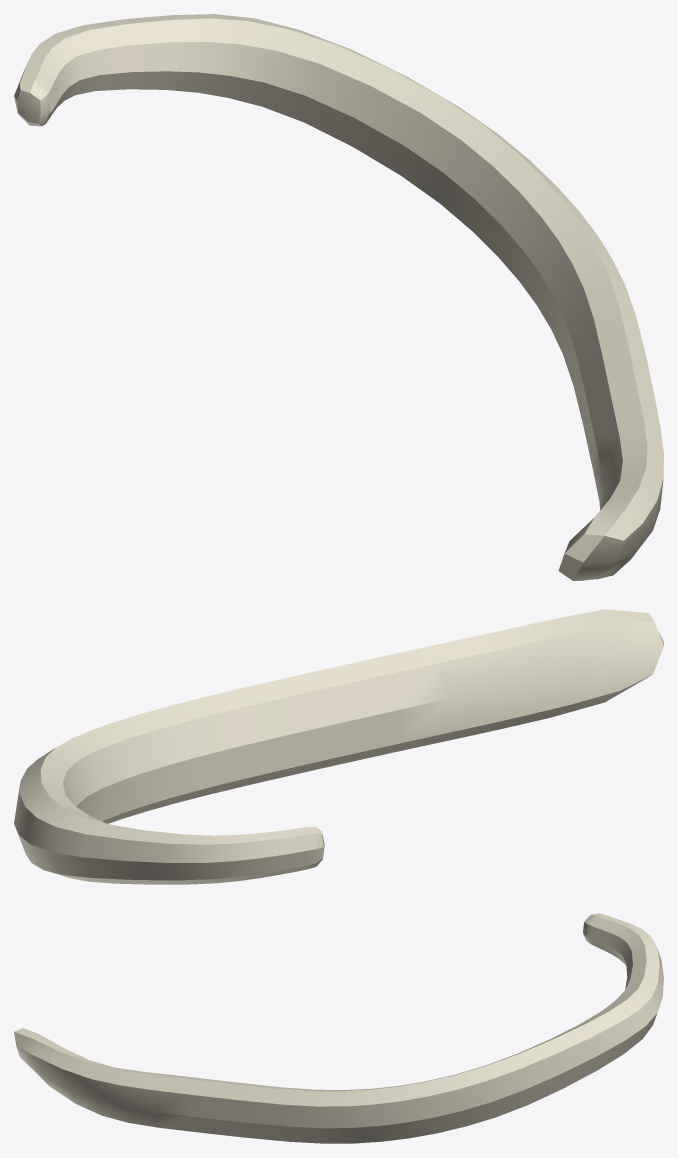
File: Os_COTE2.fbx
3 renders of one model, top to bottom at view 1: azimuth 30°, elevation 25°; view 2: azimuth 150°, elevation 25°; view 3: azimuth 270°, elevation 25°, orthographic. The views are drawn at different scales.
Parts seen in each view (by area): view 1: Os Côté.2; view 2: Os Côté.2; view 3: Os Côté.2.
Part boxes in pixels (bbox=[...]): Os Côté.2: bbox=[14, 14, 663, 580]; Os Côté.2: bbox=[14, 609, 663, 884]; Os Côté.2: bbox=[14, 913, 663, 1143].
Size of the model in its own units: 653 by 355 by 1461.
